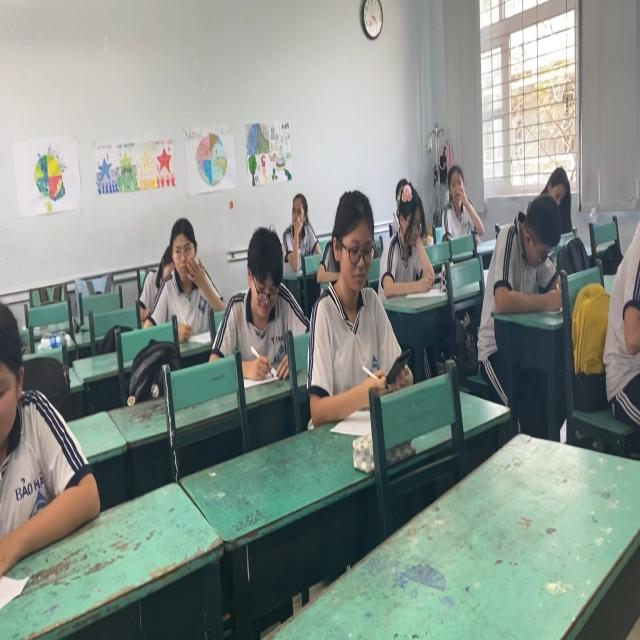not_cheating: (0, 299, 105, 546), (307, 188, 402, 403), (211, 224, 313, 366), (488, 191, 560, 307), (153, 214, 220, 323), (385, 178, 437, 300), (279, 190, 322, 264), (438, 165, 478, 230), (543, 155, 574, 214)
